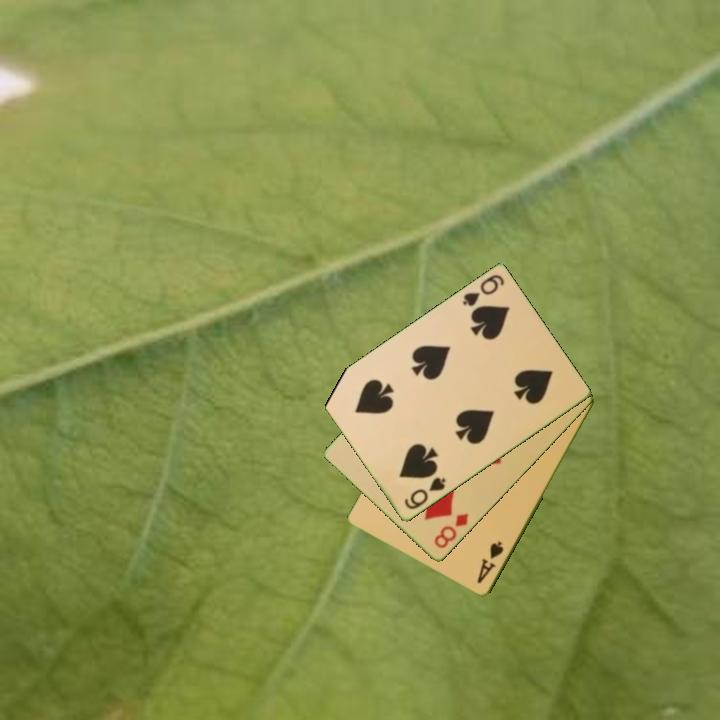6s: (401, 474, 449, 513), (459, 271, 507, 310)
8d: (430, 510, 472, 552)
As: (473, 538, 507, 587)
